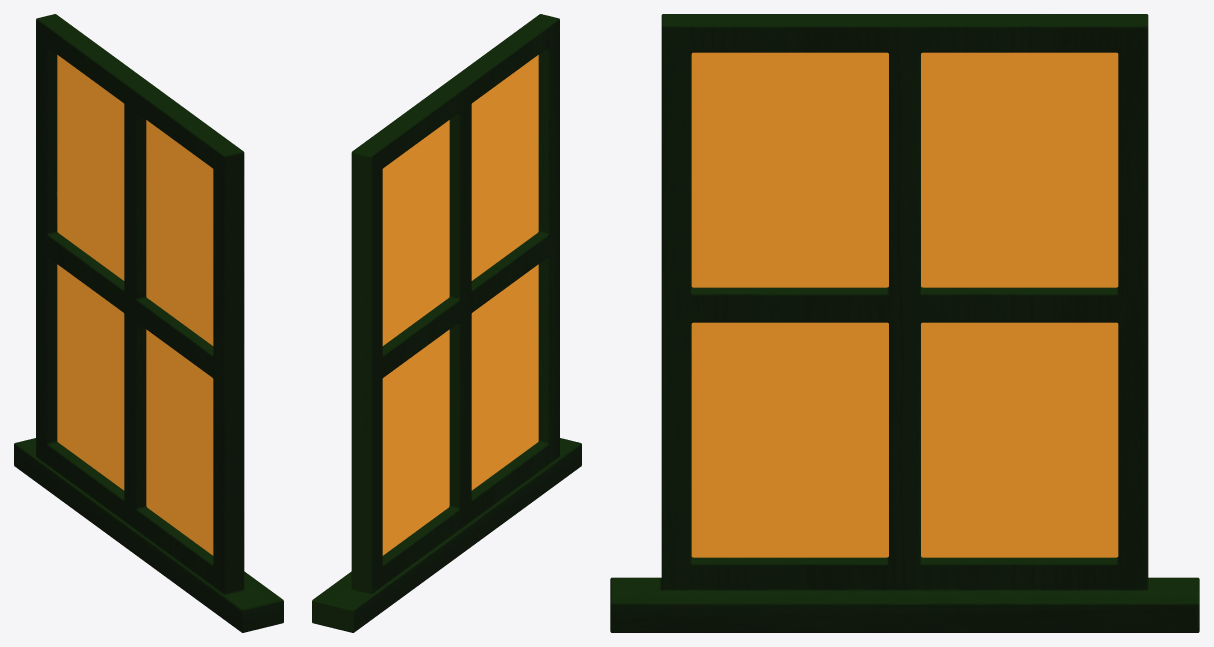
File: window.glb
3 renders of one model, left to right at view 1: azimuth 30°, elevation 25°; view 2: azimuth 150°, elevation 25°; view 3: azimuth 270°, elevation 25°, orthographic. The views are drawn at different scales.
Visible parts, largest first — view 1: room1_window; view 2: room1_window; view 3: room1_window.
Part boxes in pixels (bbox=[...]): room1_window: bbox=[14, 14, 283, 632]; room1_window: bbox=[312, 14, 581, 632]; room1_window: bbox=[610, 14, 1199, 632].
Bounding box in the file's own units: 0.513 × 5.4 × 4.84.
Materials: 1 (1 with a texture image).
